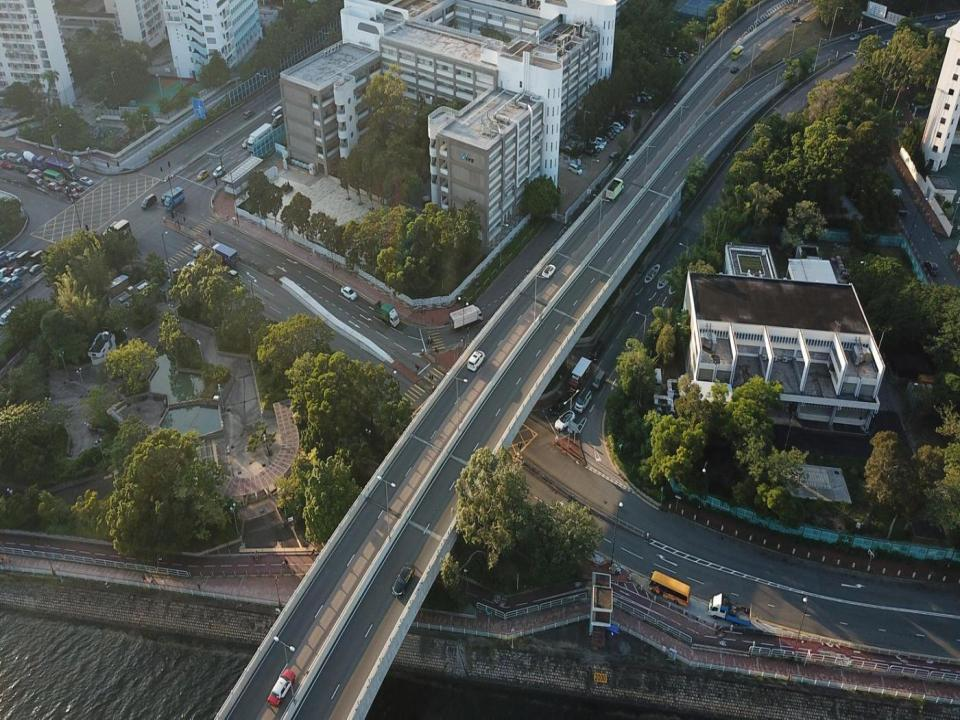bus: (648, 570, 692, 605)
car: (267, 669, 296, 708), (391, 562, 416, 596), (466, 349, 485, 371), (555, 411, 574, 430), (924, 260, 940, 276), (592, 371, 605, 389), (340, 286, 357, 299), (11, 266, 27, 279), (29, 262, 46, 274), (5, 250, 22, 262), (64, 185, 79, 198), (552, 397, 565, 412), (542, 264, 554, 280), (212, 166, 225, 178), (0, 159, 14, 170), (639, 92, 653, 103), (591, 140, 604, 151), (600, 130, 614, 140), (621, 109, 635, 119), (70, 181, 82, 192), (587, 144, 600, 154), (47, 182, 61, 191), (242, 137, 252, 149), (198, 170, 208, 182), (611, 120, 623, 130), (80, 176, 93, 185), (584, 148, 597, 157), (595, 136, 606, 146), (625, 154, 634, 166), (598, 135, 611, 143), (29, 169, 43, 176), (606, 126, 618, 134), (636, 96, 648, 104), (606, 128, 616, 137), (618, 119, 626, 128), (731, 65, 738, 73), (793, 15, 801, 22), (850, 34, 859, 40), (936, 14, 946, 19)
truck: (95, 219, 131, 260), (708, 592, 751, 626), (449, 304, 484, 333), (567, 356, 591, 397), (44, 157, 80, 181), (374, 299, 400, 328), (192, 243, 222, 268), (247, 122, 273, 150), (211, 242, 237, 267), (2, 274, 24, 298), (164, 186, 184, 211), (891, 187, 908, 215), (21, 150, 46, 169), (605, 177, 623, 200)
van: (575, 388, 593, 414), (0, 305, 18, 325), (16, 249, 37, 266), (43, 169, 65, 184), (30, 250, 48, 268), (186, 259, 204, 276), (590, 340, 603, 361), (142, 192, 156, 210), (27, 172, 42, 185), (6, 152, 22, 164), (569, 162, 582, 176), (162, 188, 174, 203), (226, 270, 239, 283), (272, 112, 284, 126), (16, 162, 29, 174), (732, 45, 743, 59), (272, 106, 283, 117), (244, 109, 255, 120), (610, 150, 617, 164)
